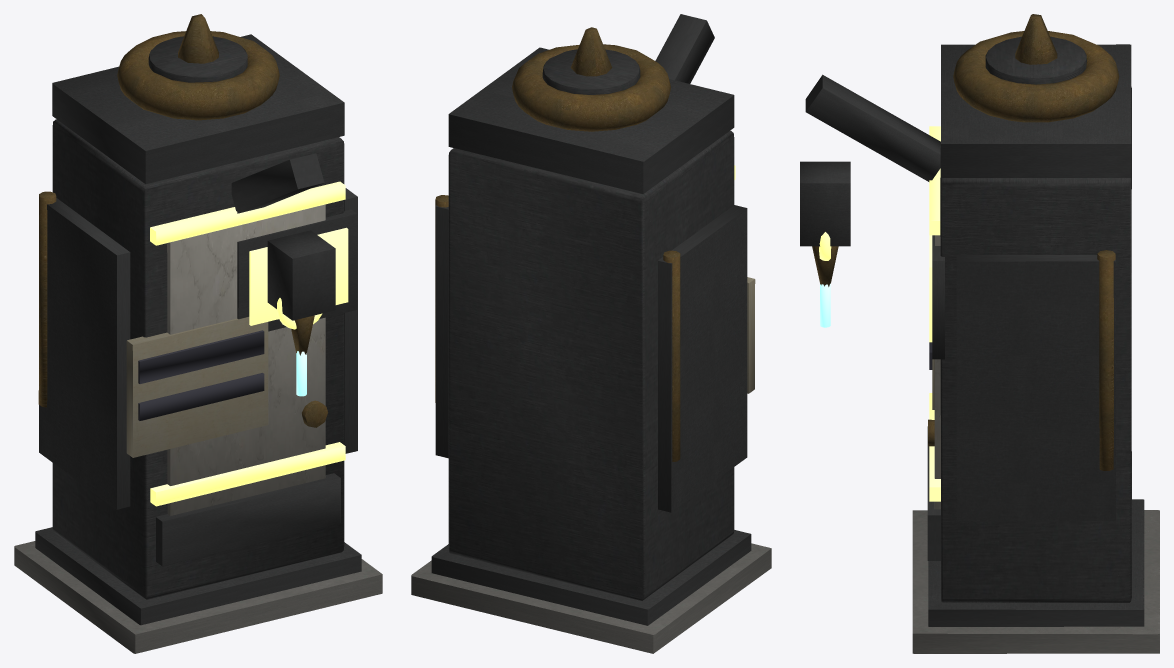
The model's file is hp_room_l10_p03.glb.
3 views of the same model, side by side, from view 1: azimuth 30°, elevation 25°; view 2: azimuth 150°, elevation 25°; view 3: azimuth 270°, elevation 25° (orthographic). The views are drawn at different scales.
Visible parts, largest first — view 1: room_l10_p03; view 2: room_l10_p03; view 3: room_l10_p03.
Part boxes in pixels (x1,y1,x2,y2): room_l10_p03: (14,14,382,653); room_l10_p03: (411,14,771,653); room_l10_p03: (800,14,1159,653).
Bounding box in the file's own units: 0.92 × 1.99 × 1.13.
Materials: 10 (6 with a texture image).
